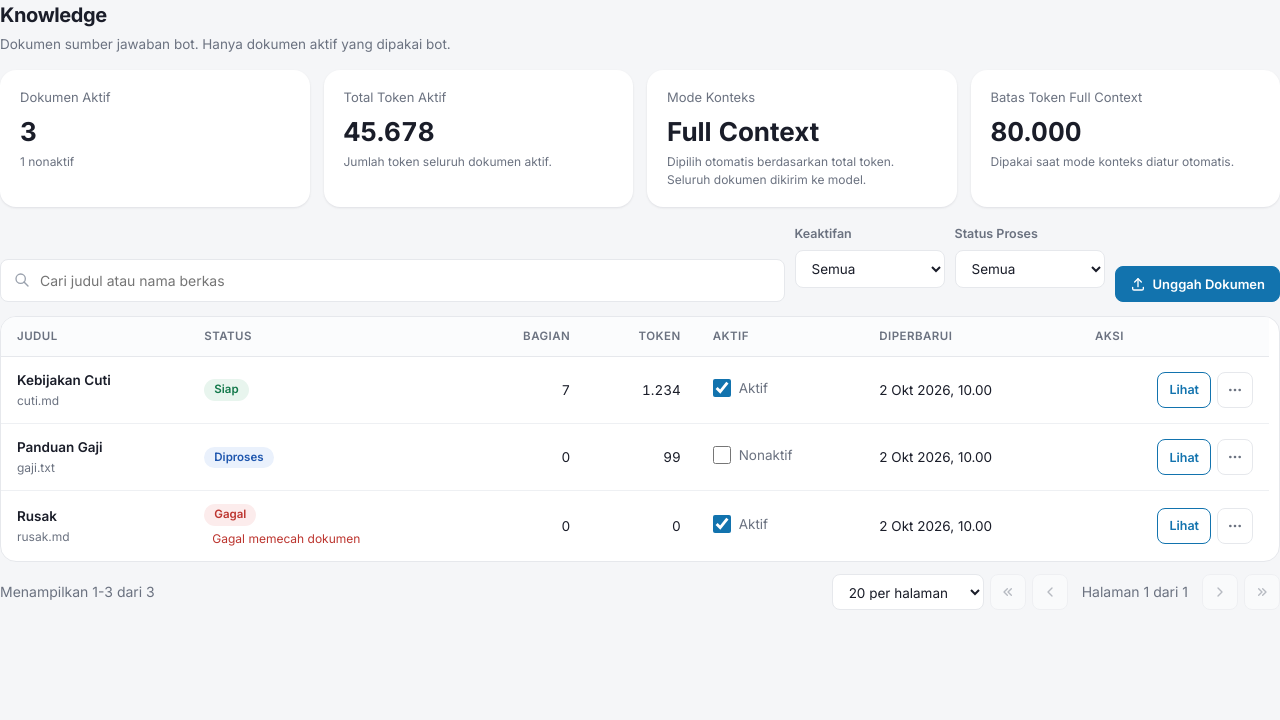
Test: Knowledge: aksi baris › batal pada konfirmasi tidak menghapus
Expected: the text "Kebijakan Cuti" is shown, [17,372,111,388]
Click the button named "Aksi lainnya untuk cuti.md". click: (1235, 390)
box: [1217,372,1253,408]
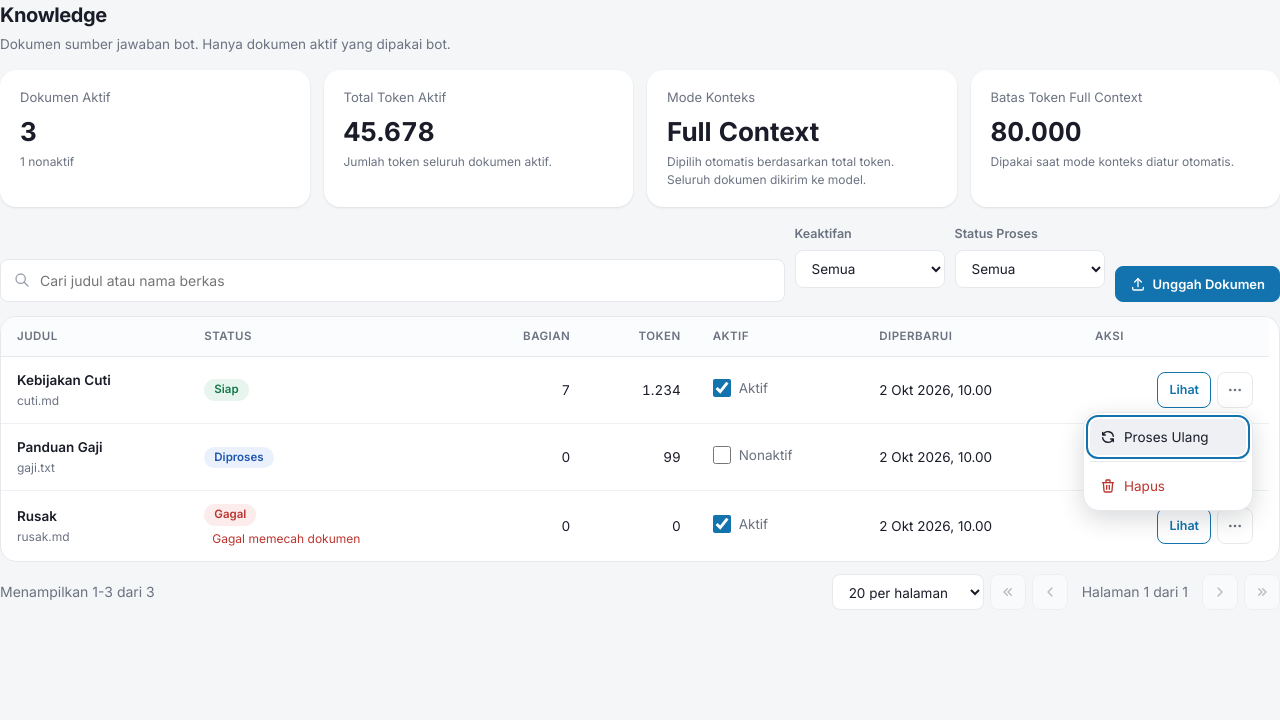
Click the menu item "Hapus". click: (1168, 486)
box: [1090,468,1246,504]
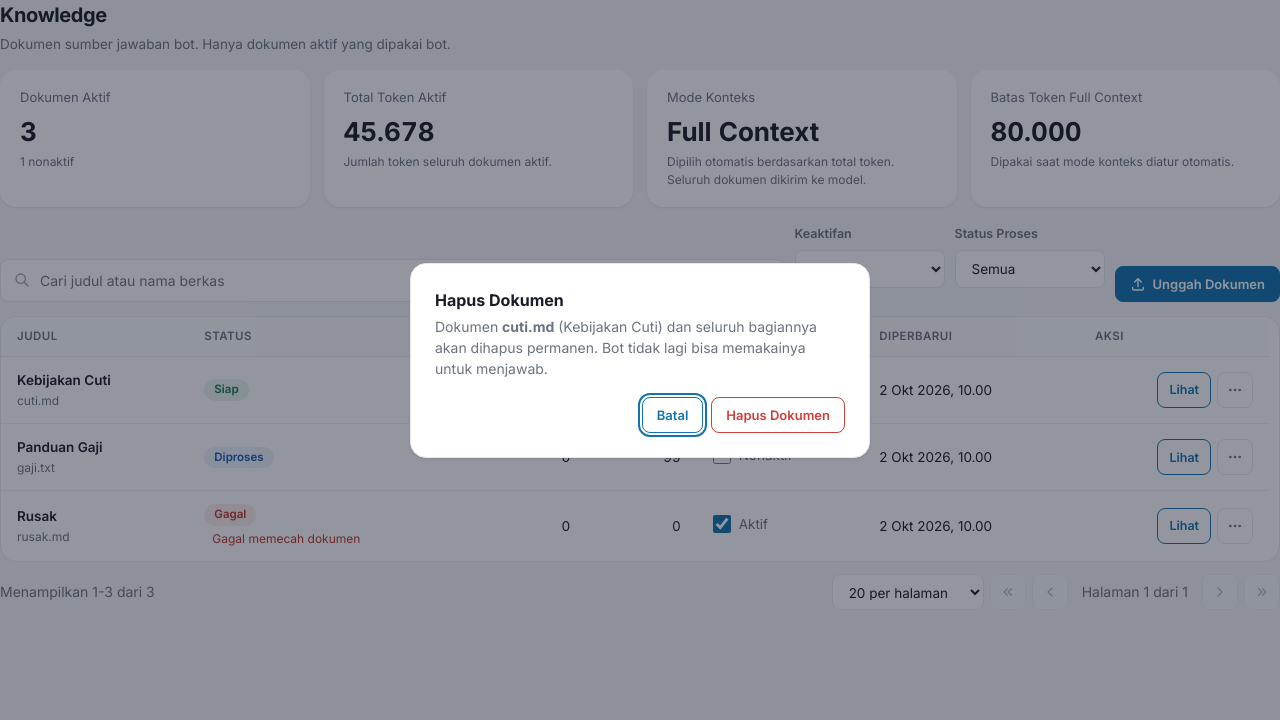
Click the button "Batal". click: (673, 414)
box: [642,396,703,432]
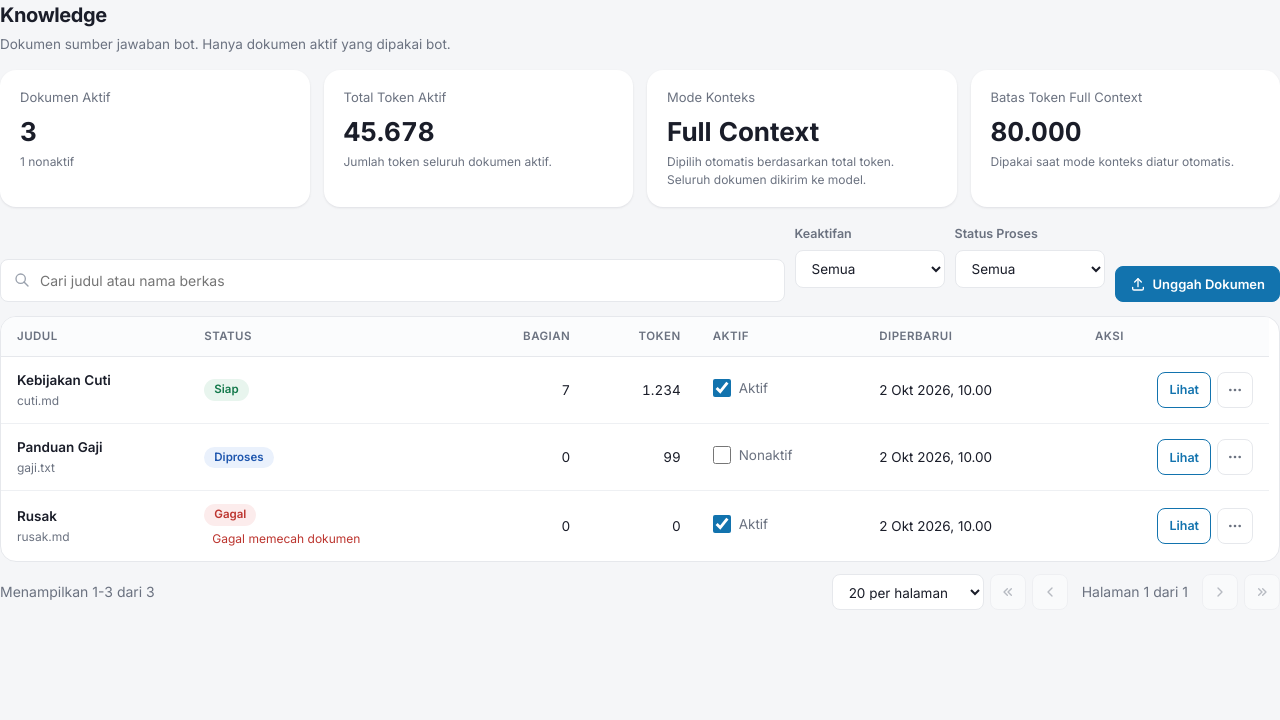
Result: the dialog is gone
